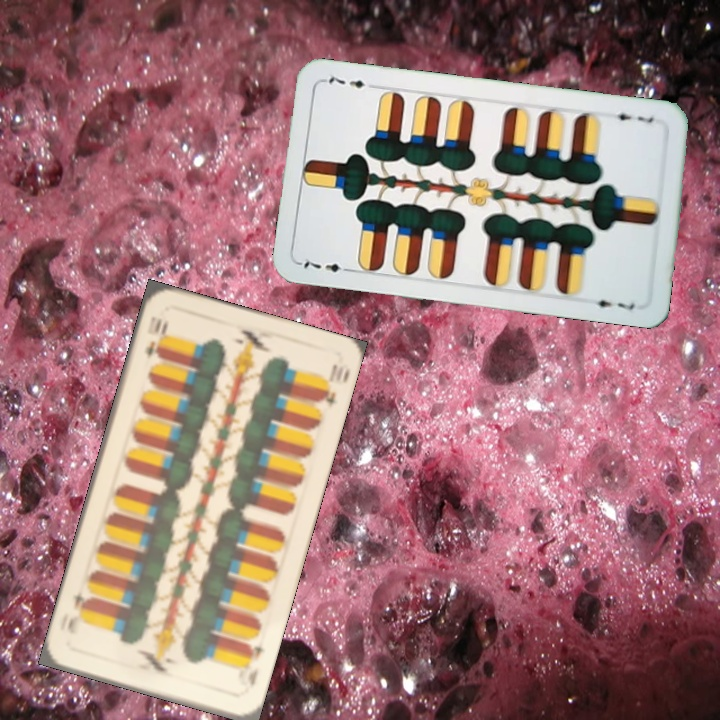E10: (141, 314, 171, 361), (240, 640, 267, 690)
E7: (296, 254, 355, 275), (607, 107, 657, 126)
